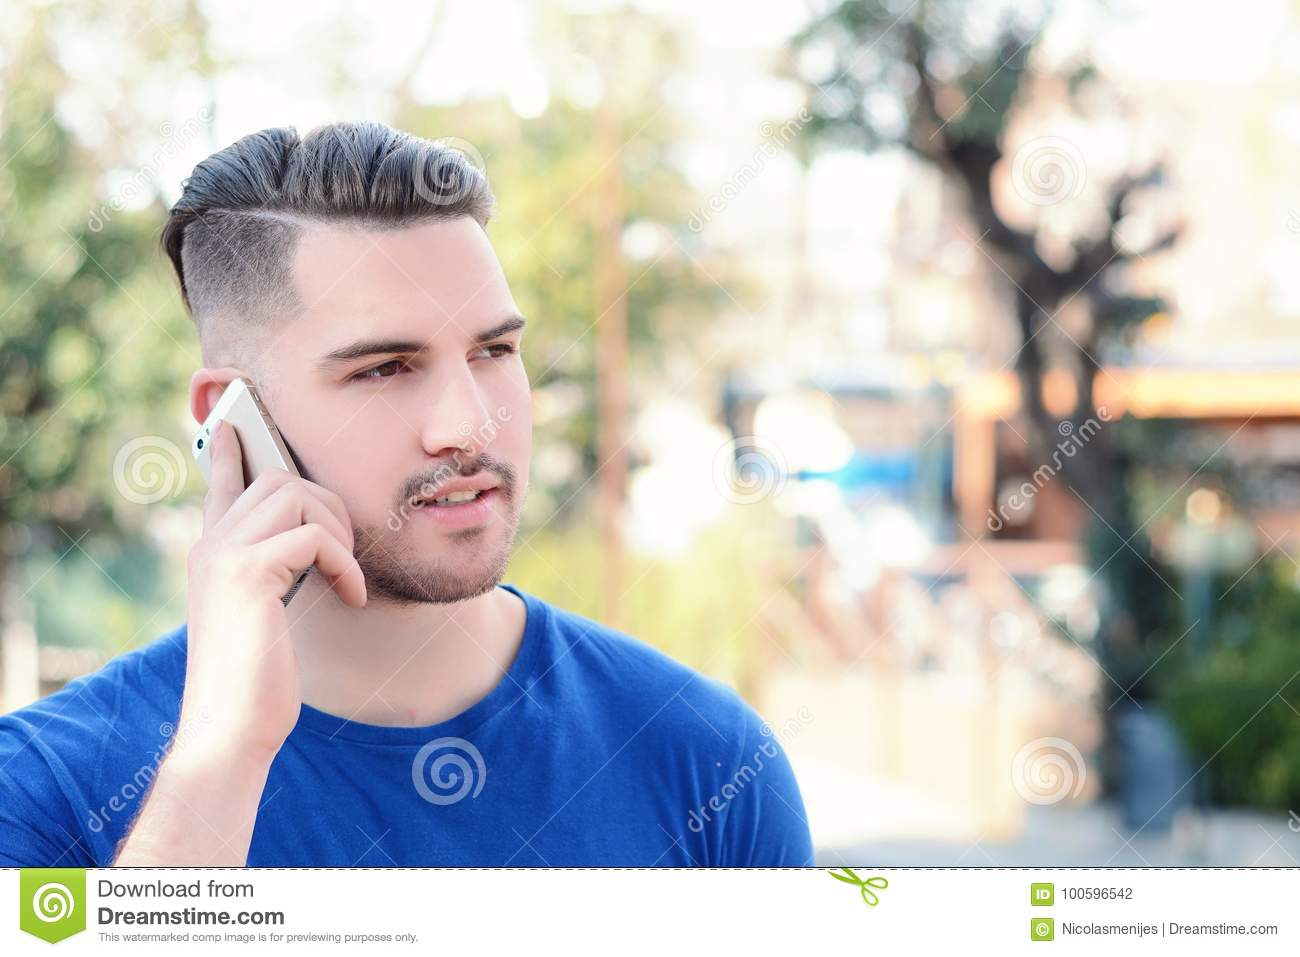phone: (191, 373, 332, 619)
talk: (172, 293, 535, 754)
